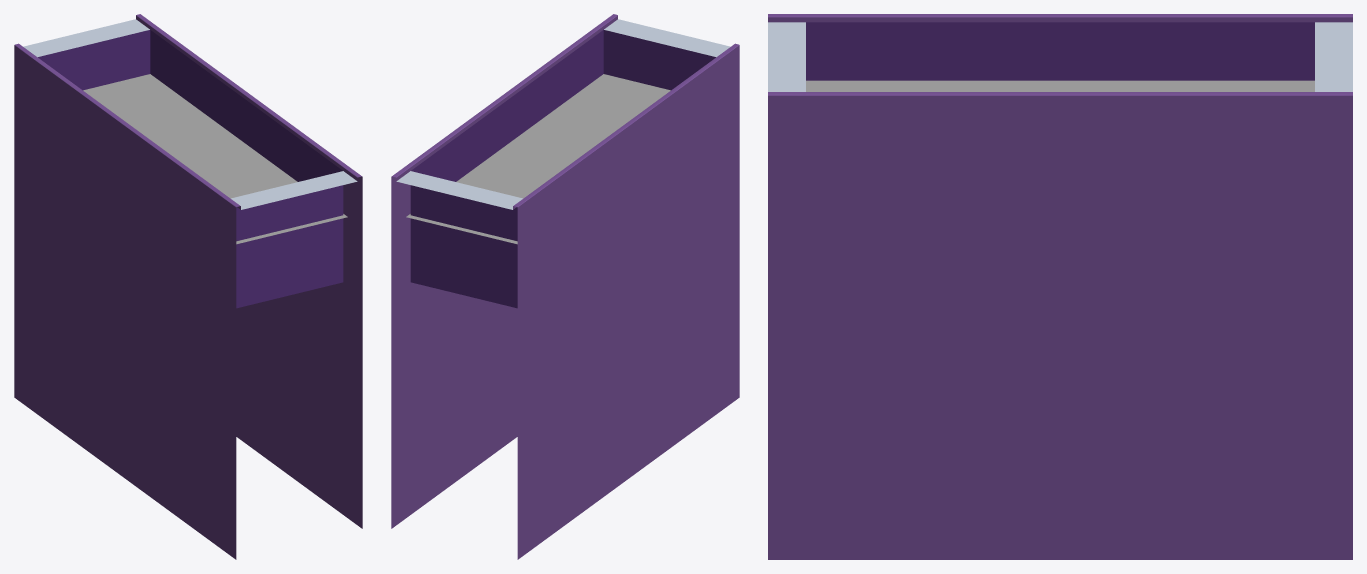
The model's file is SM_Platform_Hole.fbx.
The picture shows the model from 3 angles, left to right: view 1: azimuth 30°, elevation 25°; view 2: azimuth 150°, elevation 25°; view 3: azimuth 270°, elevation 25°; orthographic projection. The views are drawn at different scales.
Visible parts, largest first — view 1: SM_Platform_Hole; view 2: SM_Platform_Hole; view 3: SM_Platform_Hole.
Part boxes in pixels (box(x1,y1,x2,y2)): SM_Platform_Hole: box(14, 14, 362, 559); SM_Platform_Hole: box(391, 14, 739, 559); SM_Platform_Hole: box(768, 14, 1352, 559).
Size of the model in its own units: 650 by 1734 by 1977.
